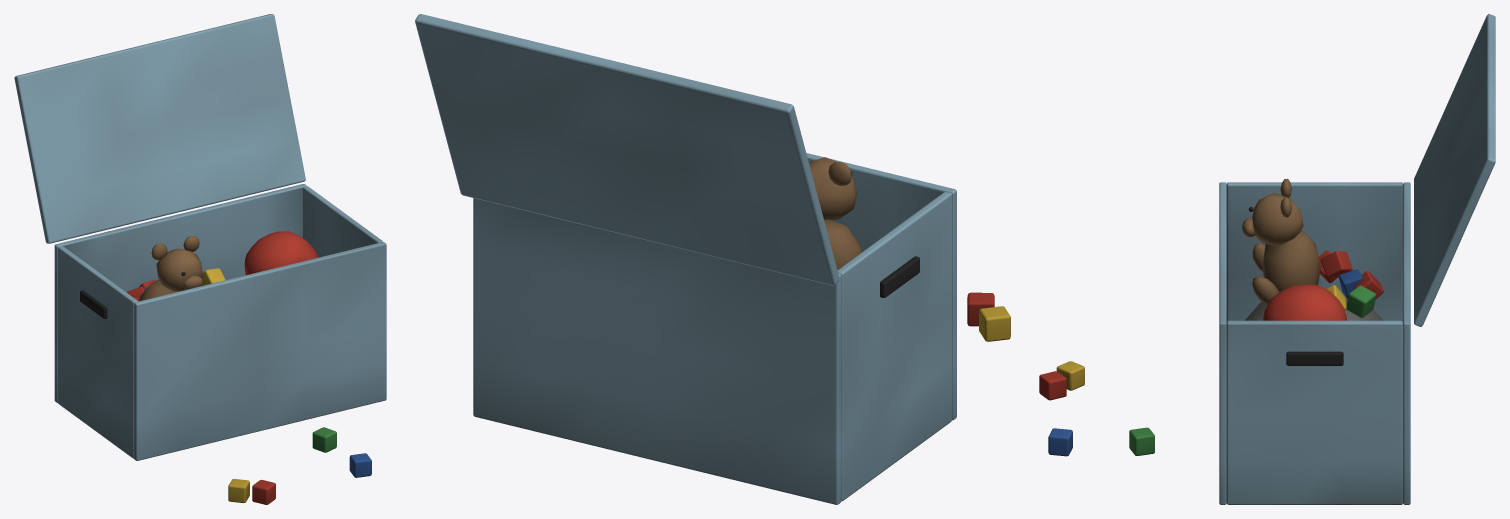
Rendered from toy_box.glb.
The picture shows the model from 3 angles, left to right: view 1: azimuth 30°, elevation 25°; view 2: azimuth 150°, elevation 25°; view 3: azimuth 270°, elevation 25°; orthographic projection. The views are drawn at different scales.
Parts seen in each view (by area): view 1: toy_box; view 2: toy_box; view 3: toy_box.
Part boxes in pixels (left/top/right/bottom): toy_box: left=14, top=14, right=386, bottom=504; toy_box: left=415, top=14, right=1010, bottom=504; toy_box: left=1039, top=14, right=1495, bottom=504.
Size of the model in its own units: 0.7202 by 0.803 by 0.9526.
